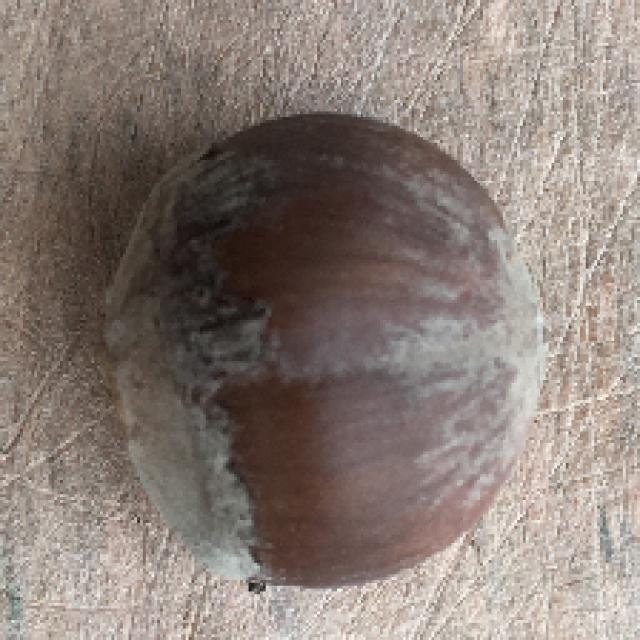DamagedHazelnut: (107, 118, 550, 586)
